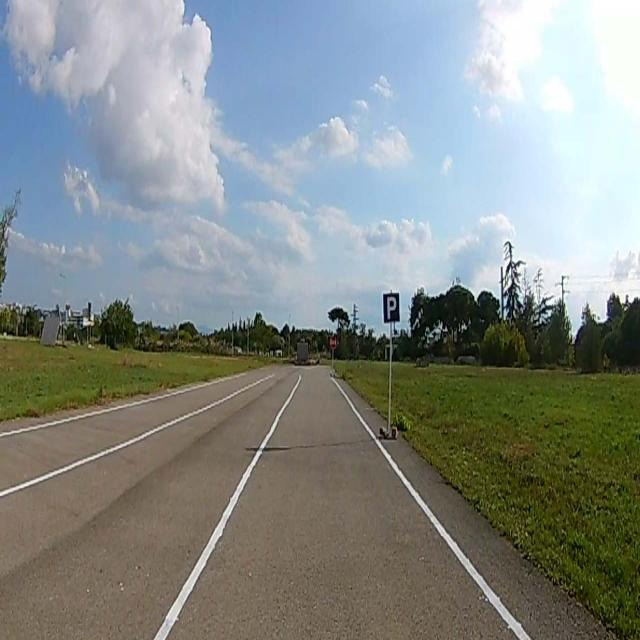park: (383, 292, 399, 322)
